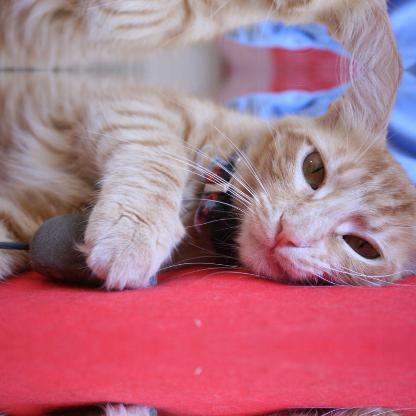Cat: (0, 68, 415, 294), (0, 0, 415, 70)
